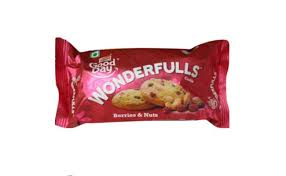gooday-small: (49, 46, 233, 123)
